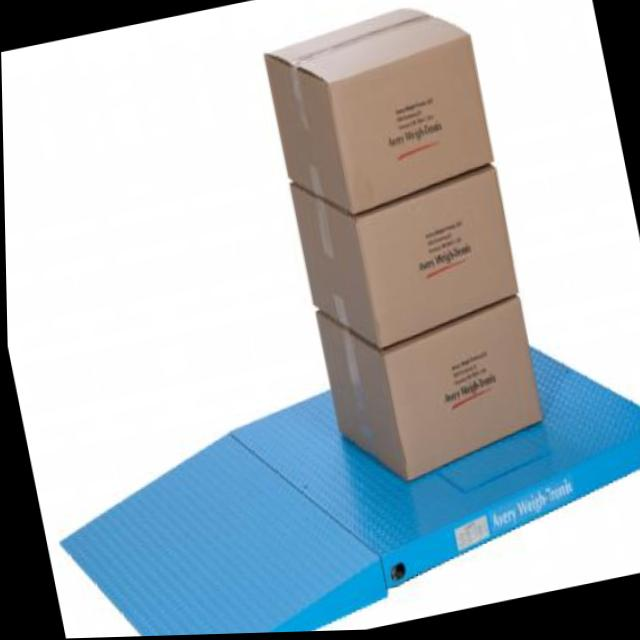box: (301, 275, 580, 532), (248, 0, 509, 231), (277, 144, 541, 368)
